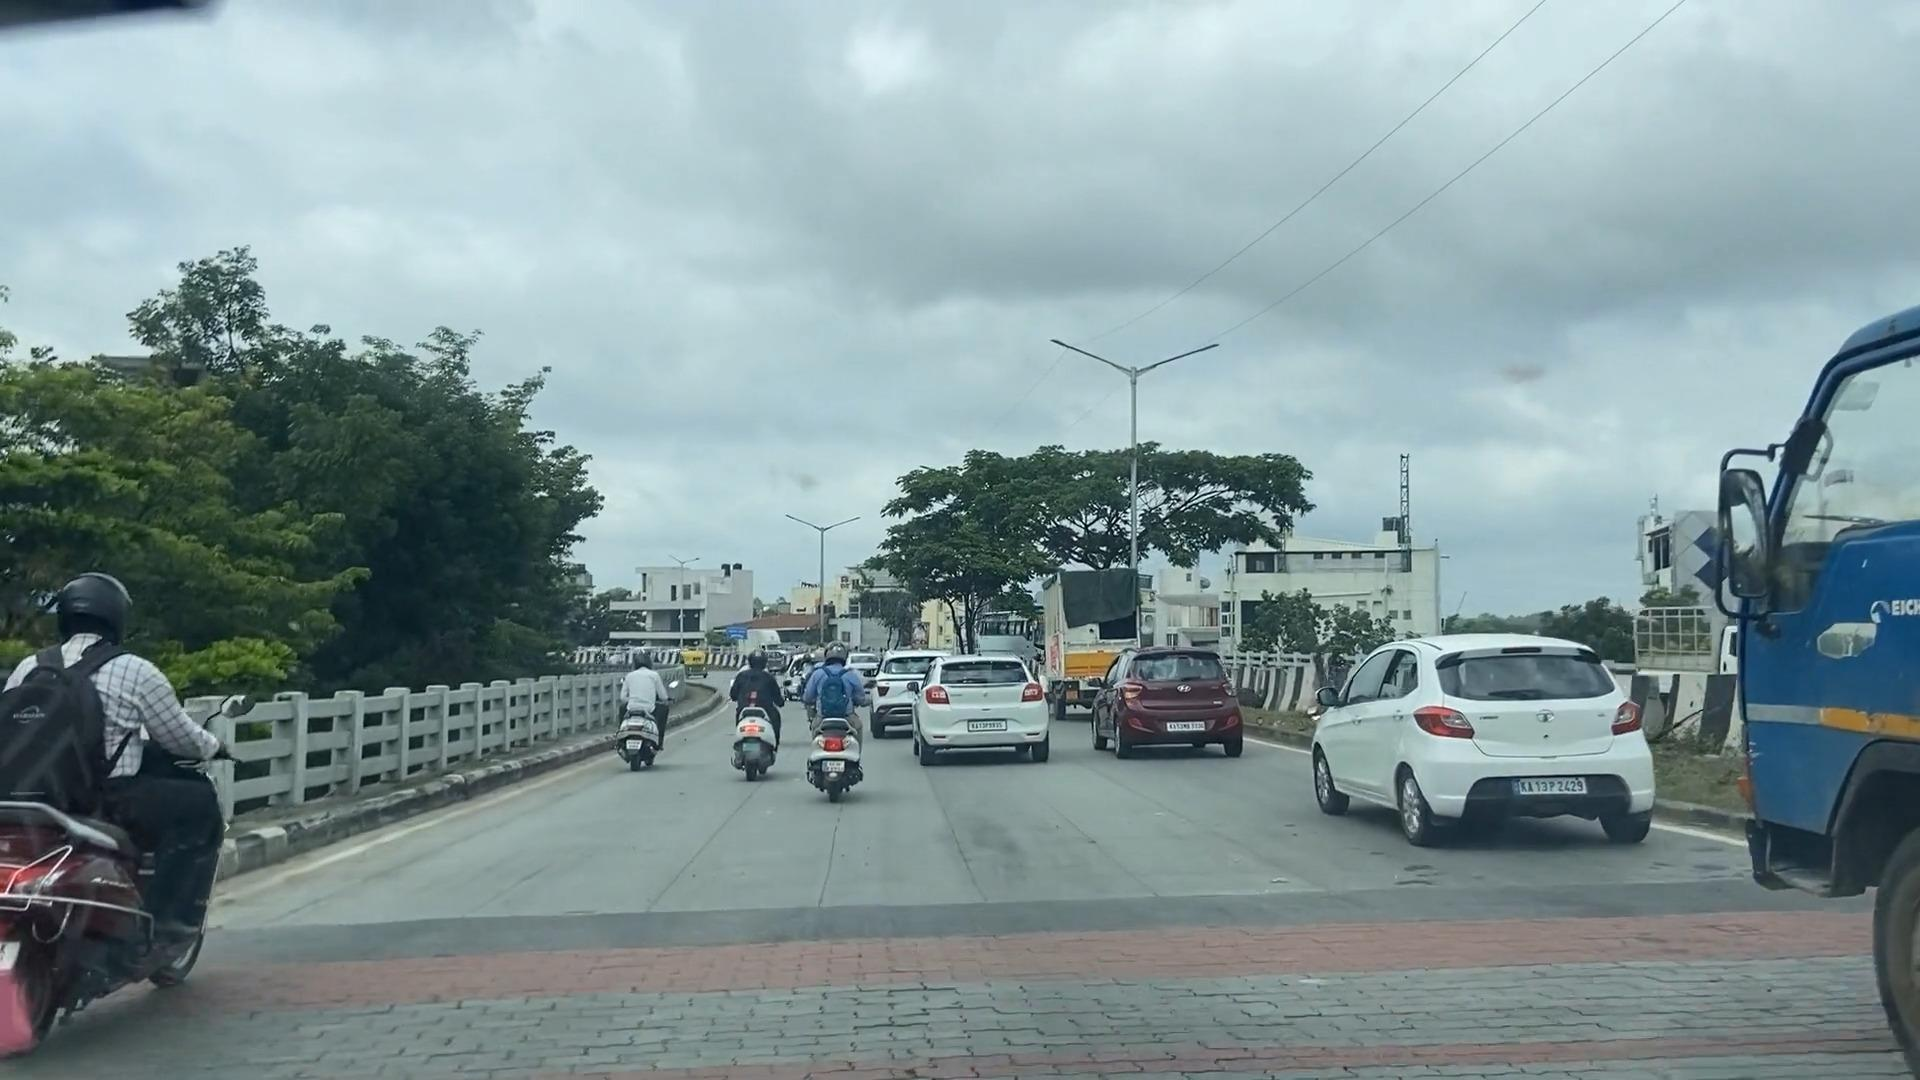LMV: (22, 582, 181, 1013), (1408, 636, 1639, 847), (916, 646, 1039, 767), (1102, 647, 1229, 753), (798, 640, 866, 799), (727, 636, 778, 787), (616, 644, 663, 774)
SpeedBump: (363, 890, 1702, 1080)
